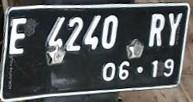clone-license-plate: (4, 4, 186, 89)
